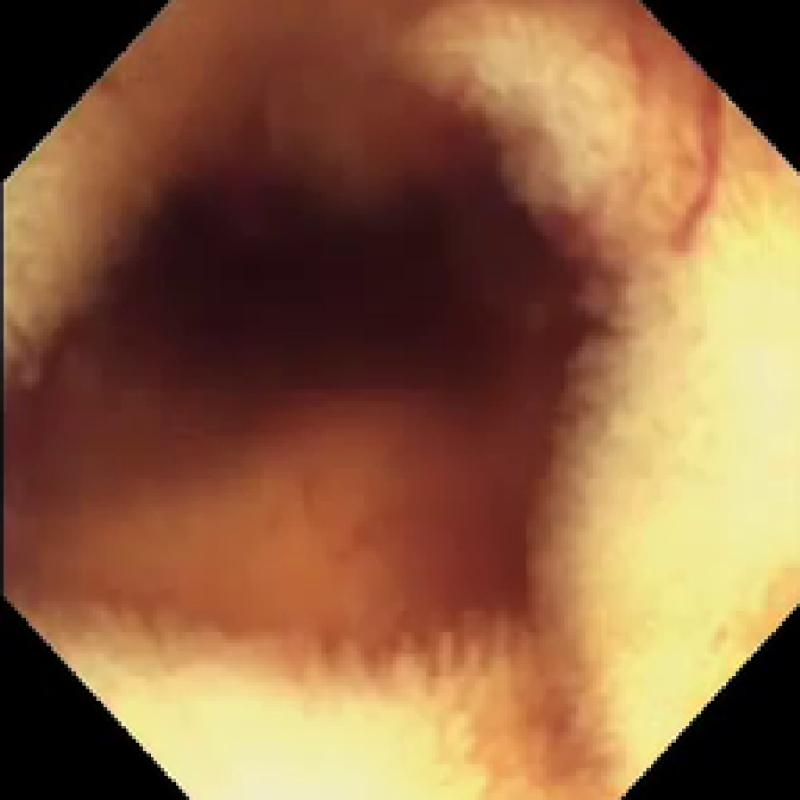bleeding: (0, 61, 600, 746), (629, 39, 739, 257)
